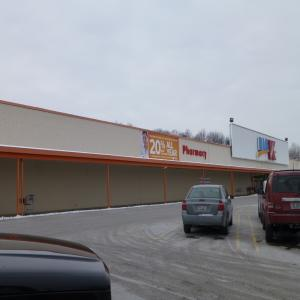Vehicle-registration-plate: (292, 202, 300, 210), (200, 205, 208, 212)
